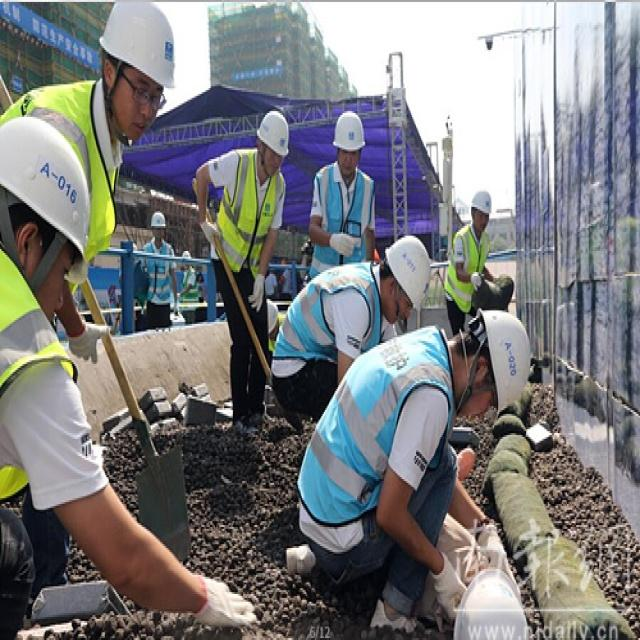helmet: (2, 148, 95, 444), (93, 2, 179, 194), (450, 409, 535, 563), (380, 306, 432, 434), (327, 149, 366, 236), (253, 146, 291, 230), (468, 247, 494, 310), (147, 277, 170, 327), (180, 334, 192, 362)
vest: (1, 329, 88, 640), (16, 110, 101, 342), (210, 201, 282, 364), (445, 310, 496, 410)
